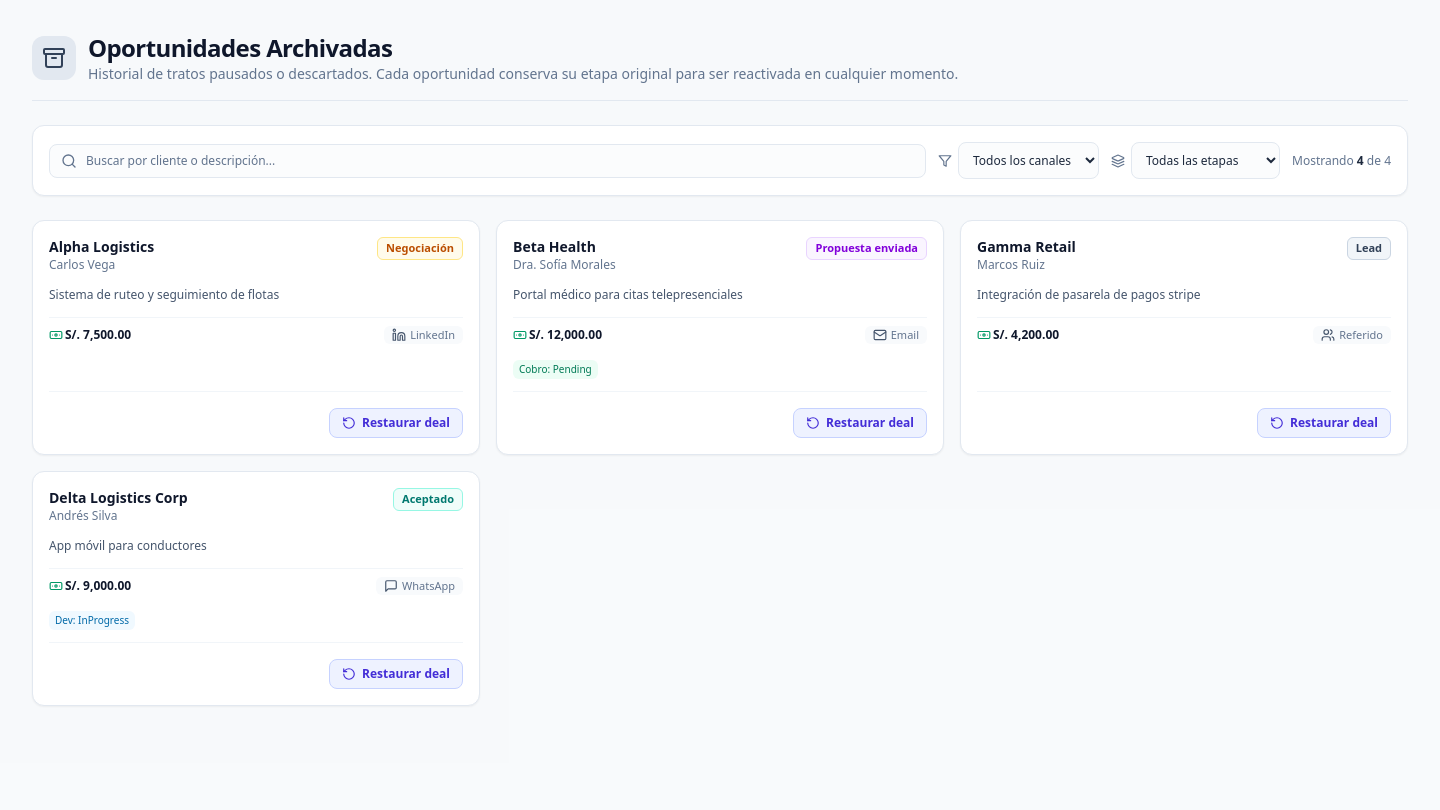
Test case: Vista de Oportunidades Archivadas (/archive) › 3. Filtros y Búsqueda › filtra por los 7 canales canónicos de ADR-004 más la opción 'Todos'
# Seleccionar canal "WhatsApp"
Select "WhatsApp" in the dropdown named "Filtrar por canal": (1028, 160) [958,142,1099,179]
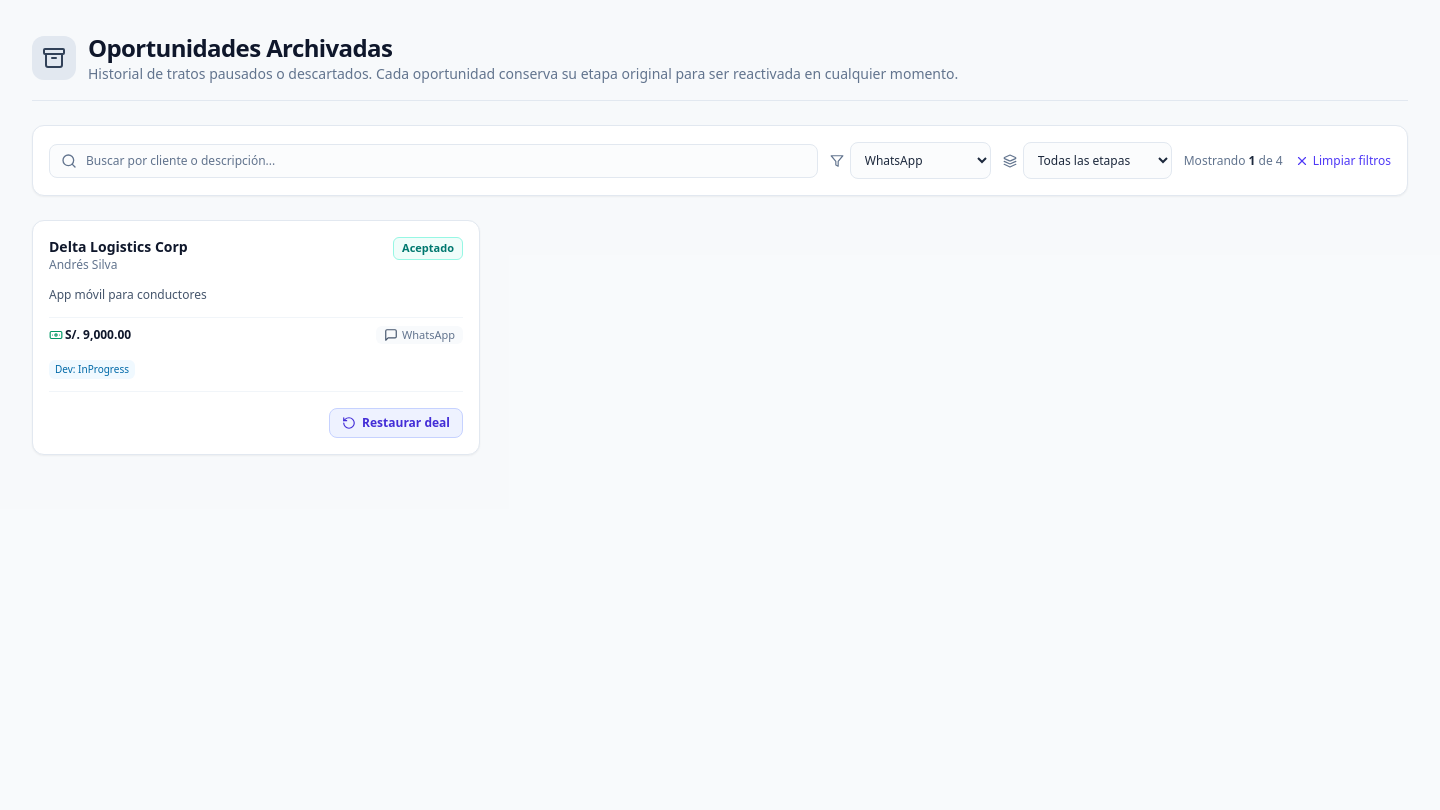
Expected: the heading "Delta Logistics Corp" is shown, [49,237,188,256]
Now the heading "Alpha Logistics" is gone
Now the heading "Beta Health" is gone
